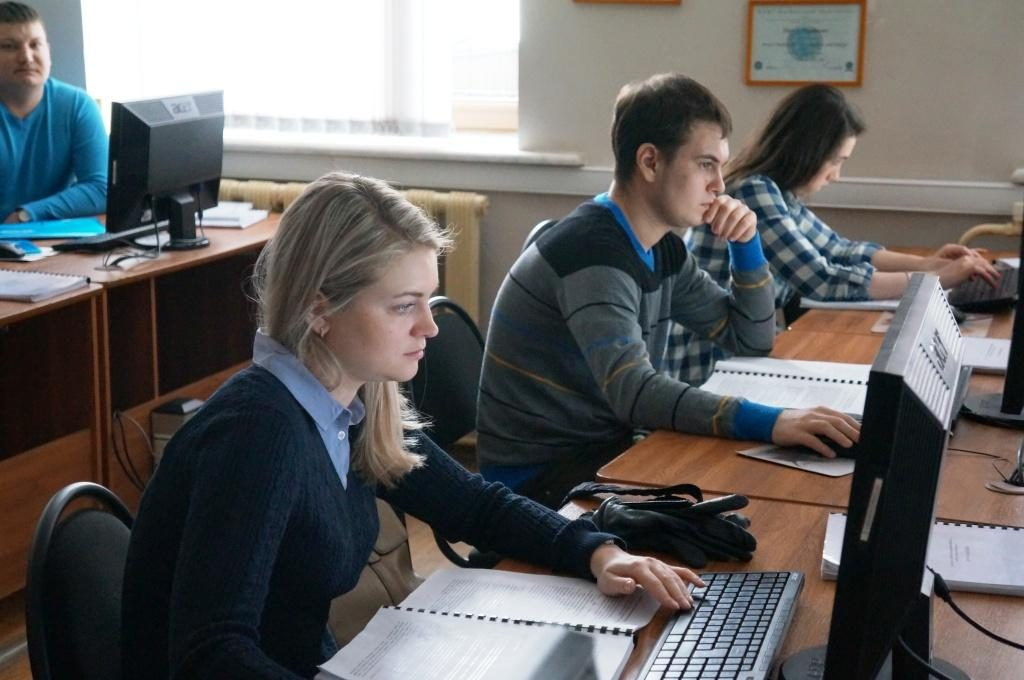students: (118, 171, 707, 678), (476, 70, 864, 495), (659, 80, 997, 373), (1, 1, 108, 222)
